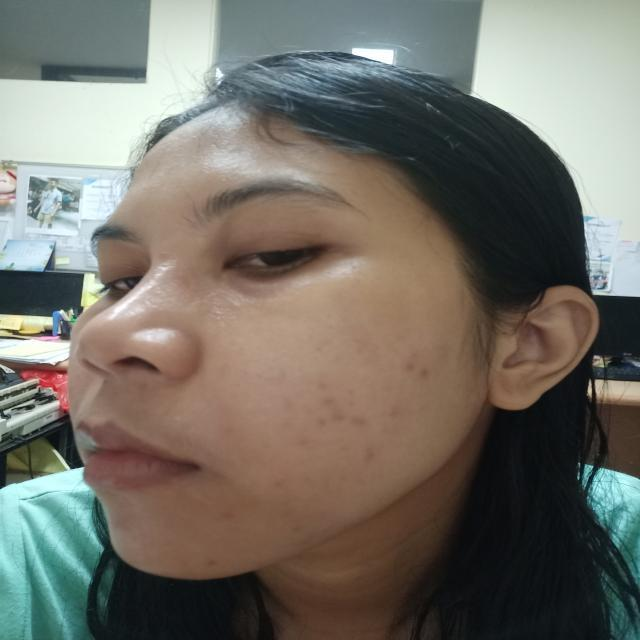acne: (325, 401, 353, 427), (351, 449, 386, 468), (384, 406, 412, 424), (277, 401, 306, 418), (310, 414, 332, 432), (216, 510, 244, 524), (270, 471, 292, 488), (348, 412, 377, 424), (317, 388, 337, 404), (294, 432, 314, 447), (419, 367, 432, 390), (287, 522, 309, 533), (406, 358, 418, 372), (204, 556, 220, 566)
dark circle: (222, 270, 324, 299)
